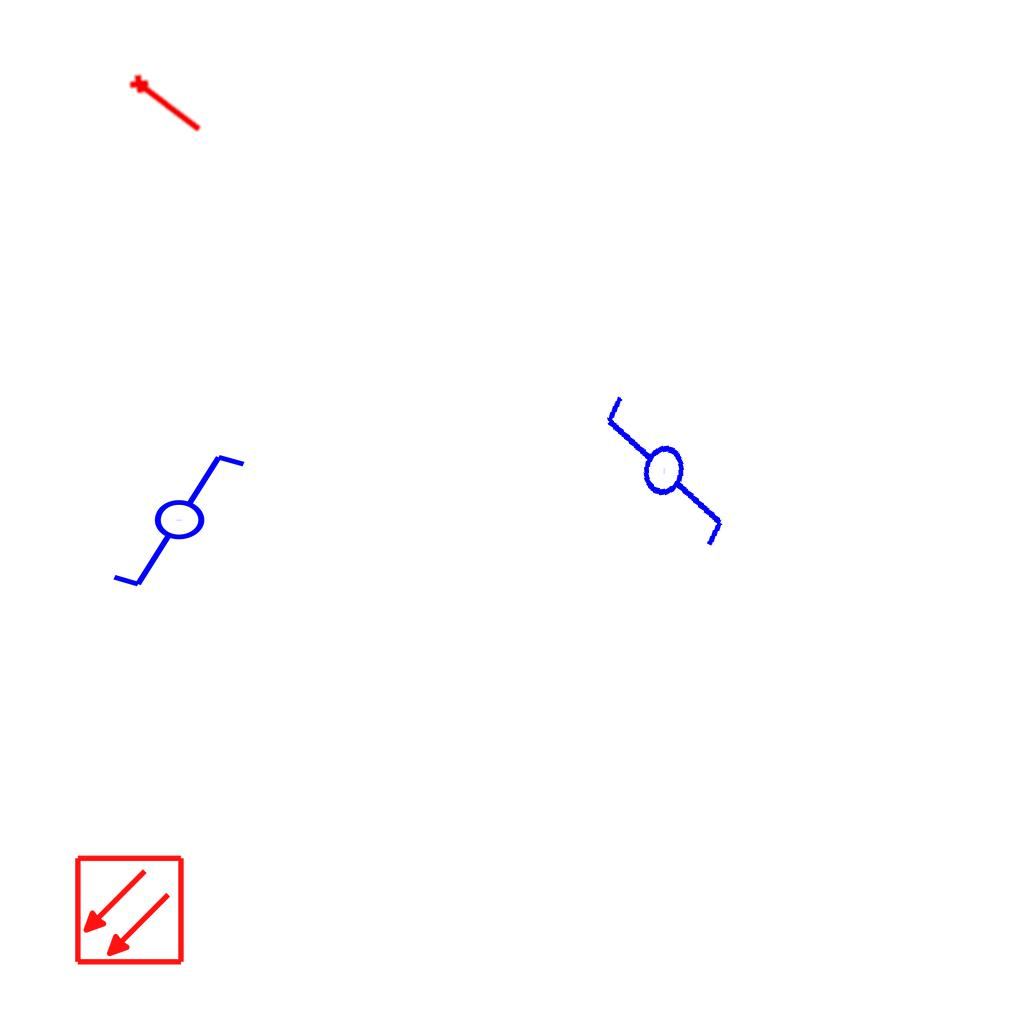ASR_Ansaugoeffnung: (124, 67, 210, 140)
RMO_Rauchmelder_optischer: (73, 854, 186, 967)
Wechselschalter: (582, 373, 753, 553), (109, 450, 266, 594)
